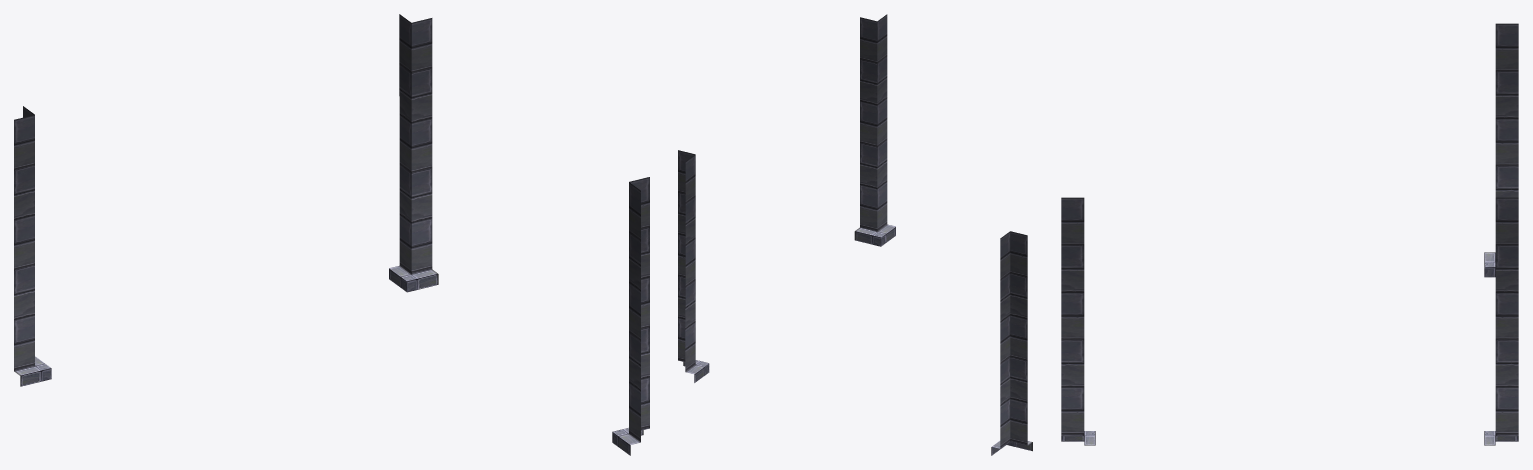
The model's file is dungeon_wall_corner3.FBX.
3 views of the same model, side by side, from view 1: azimuth 30°, elevation 25°; view 2: azimuth 150°, elevation 25°; view 3: azimuth 270°, elevation 25° (orthographic). The views are drawn at different scales.
Parts seen in each view (by area): view 1: Object023; view 2: Object023; view 3: Object023.
Part boxes in pixels (x1,y1,x2,y2): Object023: (14, 14, 649, 455); Object023: (678, 14, 1032, 455); Object023: (1061, 23, 1518, 445).
Bounding box in the file's own units: 1000 × 600 × 1000.
Materials: 1 (1 with a texture image).
